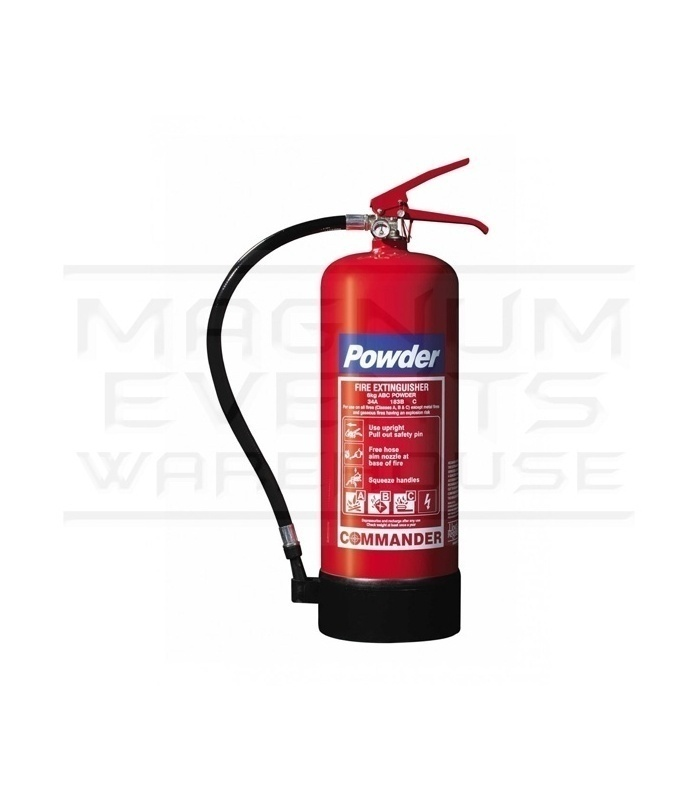fire_extinguisher: (206, 156, 490, 644)
